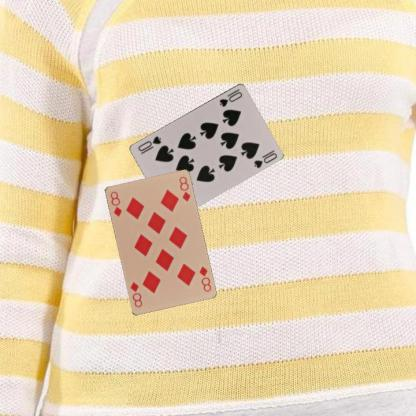10s: (216, 86, 244, 108)
8d: (196, 263, 212, 293), (107, 189, 123, 218)
